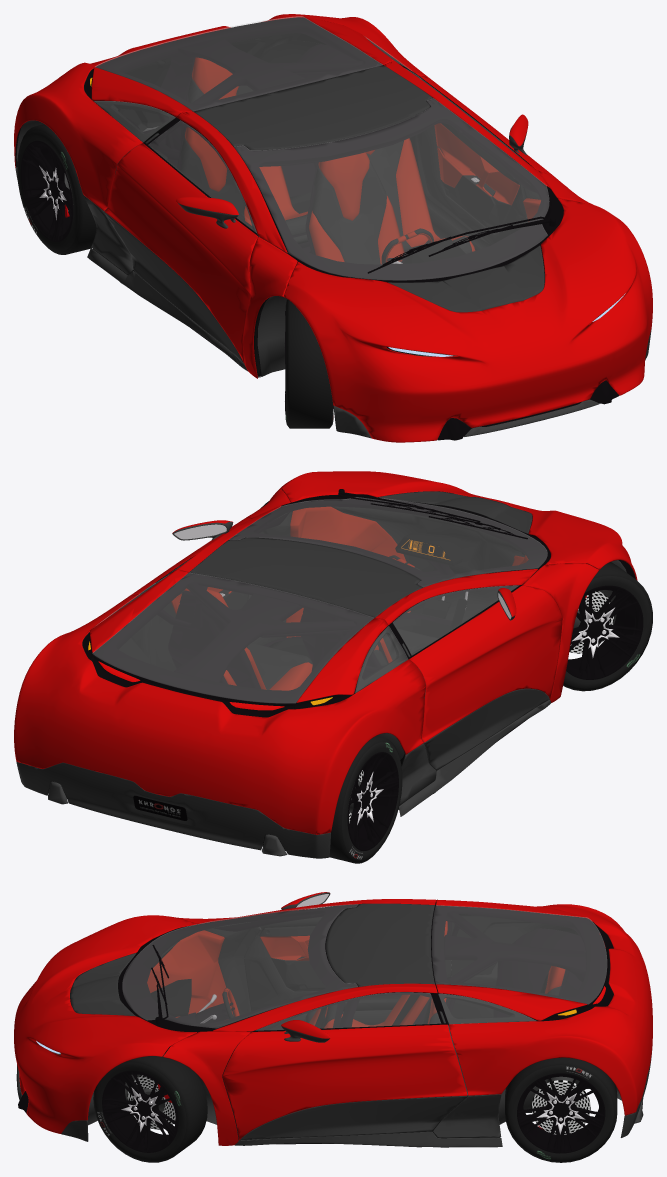
Rendered from car-concept-optimized.glb.
The picture shows the model from 3 angles, top to bottom: view 1: azimuth 30°, elevation 25°; view 2: azimuth 150°, elevation 25°; view 3: azimuth 270°, elevation 25°; orthographic projection. The views are drawn at different scales.
Parts seen in each view (by area): view 1: BodyHood, BodyWindshield, BodyRearwindow, BodyDoorRColor1, BodyRearPanelsColor1, BodyRoofPanel, BodyWindshieldGasket, InteriorSeatsColor1, InteriorSeatsColor2, BodyPillars, InteriorPillar, InteriorRearHatch (+21 smaller); view 2: BodyRearPanelsColor1, BodyRearwindow, BodyWindshield, BodyDoorRColor1, BodyPanelsColor2, BodyRoofPanel, BodyHood, InteriorRearHatch, BodyPillars, InteriorPillar, BodyWindshieldGasket, InteriorDashMid (+22 smaller); view 3: BodyRearPanelsColor1, BodyWindshield, BodyDoorLColor1, BodyHood, BodyRearwindow, BodyRoofPanel, BodyPillars, BodyWindshieldGasket, BodyDoorLColor2, BodyPanelsColor2, WheelFrontL, InteriorRearHatch (+25 smaller).
Part boxes in pixels (x1=…): BodyHood: x1=283, y1=198, x2=652, y2=442; BodyWindshield: x1=234, y1=98, x2=549, y2=280; BodyRearwindow: x1=95, y1=16, x2=382, y2=110; BodyDoorRColor1: x1=104, y1=143, x2=257, y2=363; BodyRearPanelsColor1: x1=14, y1=14, x2=428, y2=210; BodyRoofPanel: x1=193, y1=65, x2=432, y2=150; BodyWindshieldGasket: x1=234, y1=99, x2=563, y2=282; InteriorSeatsColor1: x1=185, y1=57, x2=475, y2=264; InteriorSeatsColor2: x1=180, y1=78, x2=472, y2=264; BodyPillars: x1=176, y1=61, x2=598, y2=378; InteriorPillar: x1=158, y1=37, x2=434, y2=168; InteriorRearHatch: x1=93, y1=17, x2=383, y2=117; BodyRearPanelsColor1: x1=14, y1=569, x2=425, y2=834; BodyRearwindow: x1=92, y1=573, x2=373, y2=703; BodyWindshield: x1=229, y1=497, x2=547, y2=587; BodyDoorRColor1: x1=409, y1=585, x2=562, y2=742; BodyPanelsColor2: x1=16, y1=700, x2=550, y2=858; BodyRoofPanel: x1=189, y1=537, x2=422, y2=617; BodyHood: x1=279, y1=471, x2=637, y2=580; InteriorRearHatch: x1=93, y1=573, x2=386, y2=707; BodyPillars: x1=175, y1=489, x2=599, y2=702; InteriorPillar: x1=174, y1=574, x2=417, y2=682; BodyWindshieldGasket: x1=230, y1=497, x2=550, y2=587; InteriorDashMid: x1=331, y1=503, x2=528, y2=622; BodyRearPanelsColor1: x1=436, y1=899, x2=652, y2=1115; BodyWindshield: x1=122, y1=904, x2=357, y2=1028; BodyDoorLColor1: x1=222, y1=1024, x2=467, y2=1139; BodyHood: x1=14, y1=915, x2=196, y2=1133; BodyRearwindow: x1=432, y1=905, x2=606, y2=1003; BodyRoofPanel: x1=326, y1=903, x2=434, y2=986; BodyPillars: x1=163, y1=899, x2=437, y2=1145; BodyWindshieldGasket: x1=118, y1=905, x2=357, y2=1032; BodyDoorLColor2: x1=240, y1=1096, x2=467, y2=1140; BodyPanelsColor2: x1=16, y1=1050, x2=652, y2=1147; WheelFrontL: x1=93, y1=1054, x2=207, y2=1162; InteriorRearHatch: x1=431, y1=905, x2=606, y2=1020.
Bounding box in the file's own units: 2.54 × 1.15 × 4.36.
23 materials, 6 textured.
